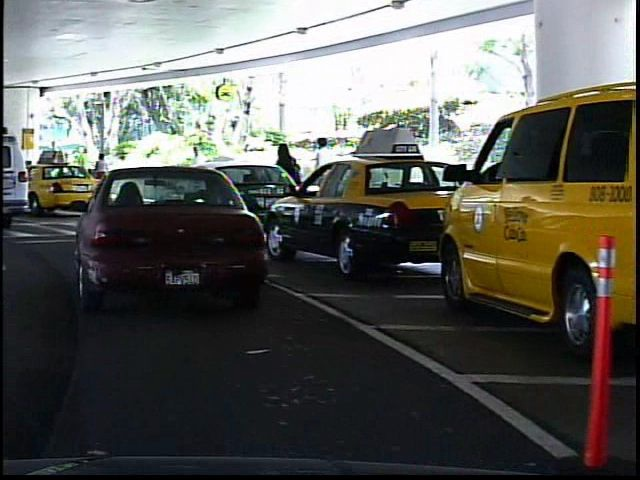person: (268, 135, 304, 225), (308, 131, 339, 217), (184, 140, 210, 204), (88, 148, 112, 197)
